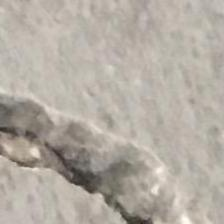Crack: (0, 74, 191, 224)
